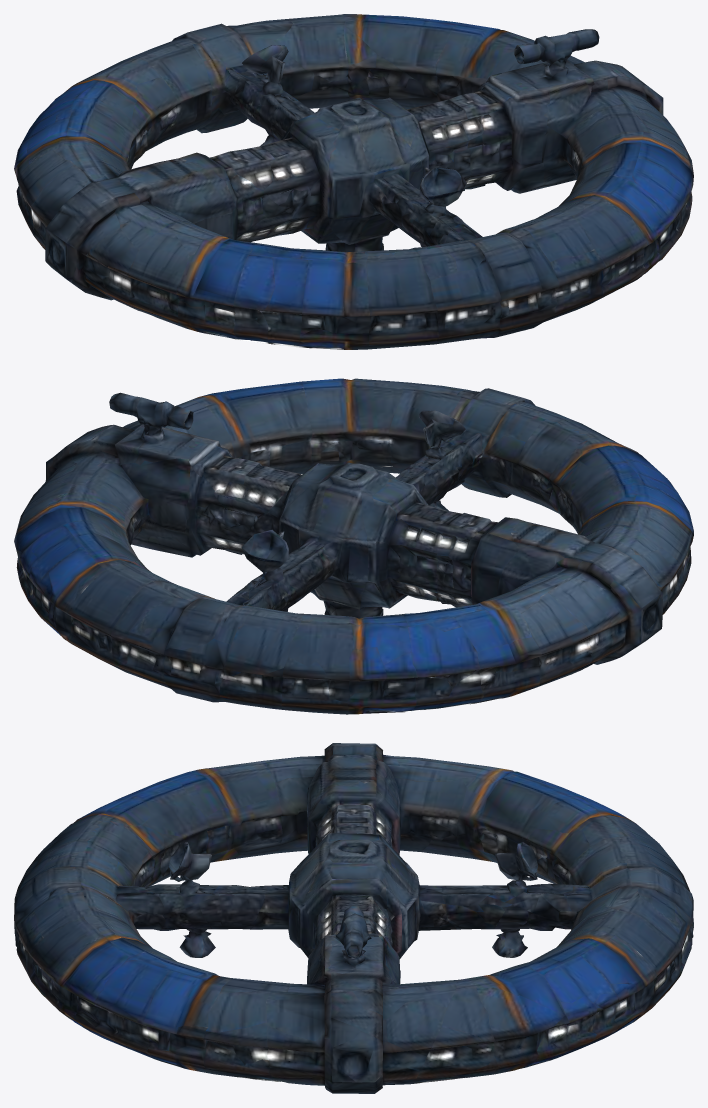
Rendered from Terran_ResearchStation.glb.
3 renders of one model, top to bottom at view 1: azimuth 30°, elevation 25°; view 2: azimuth 150°, elevation 25°; view 3: azimuth 270°, elevation 25°, orthographic.
Bounding box in the file's own units: 1.9 × 0.5154 × 1.87.
Materials: 1 (1 with a texture image).
